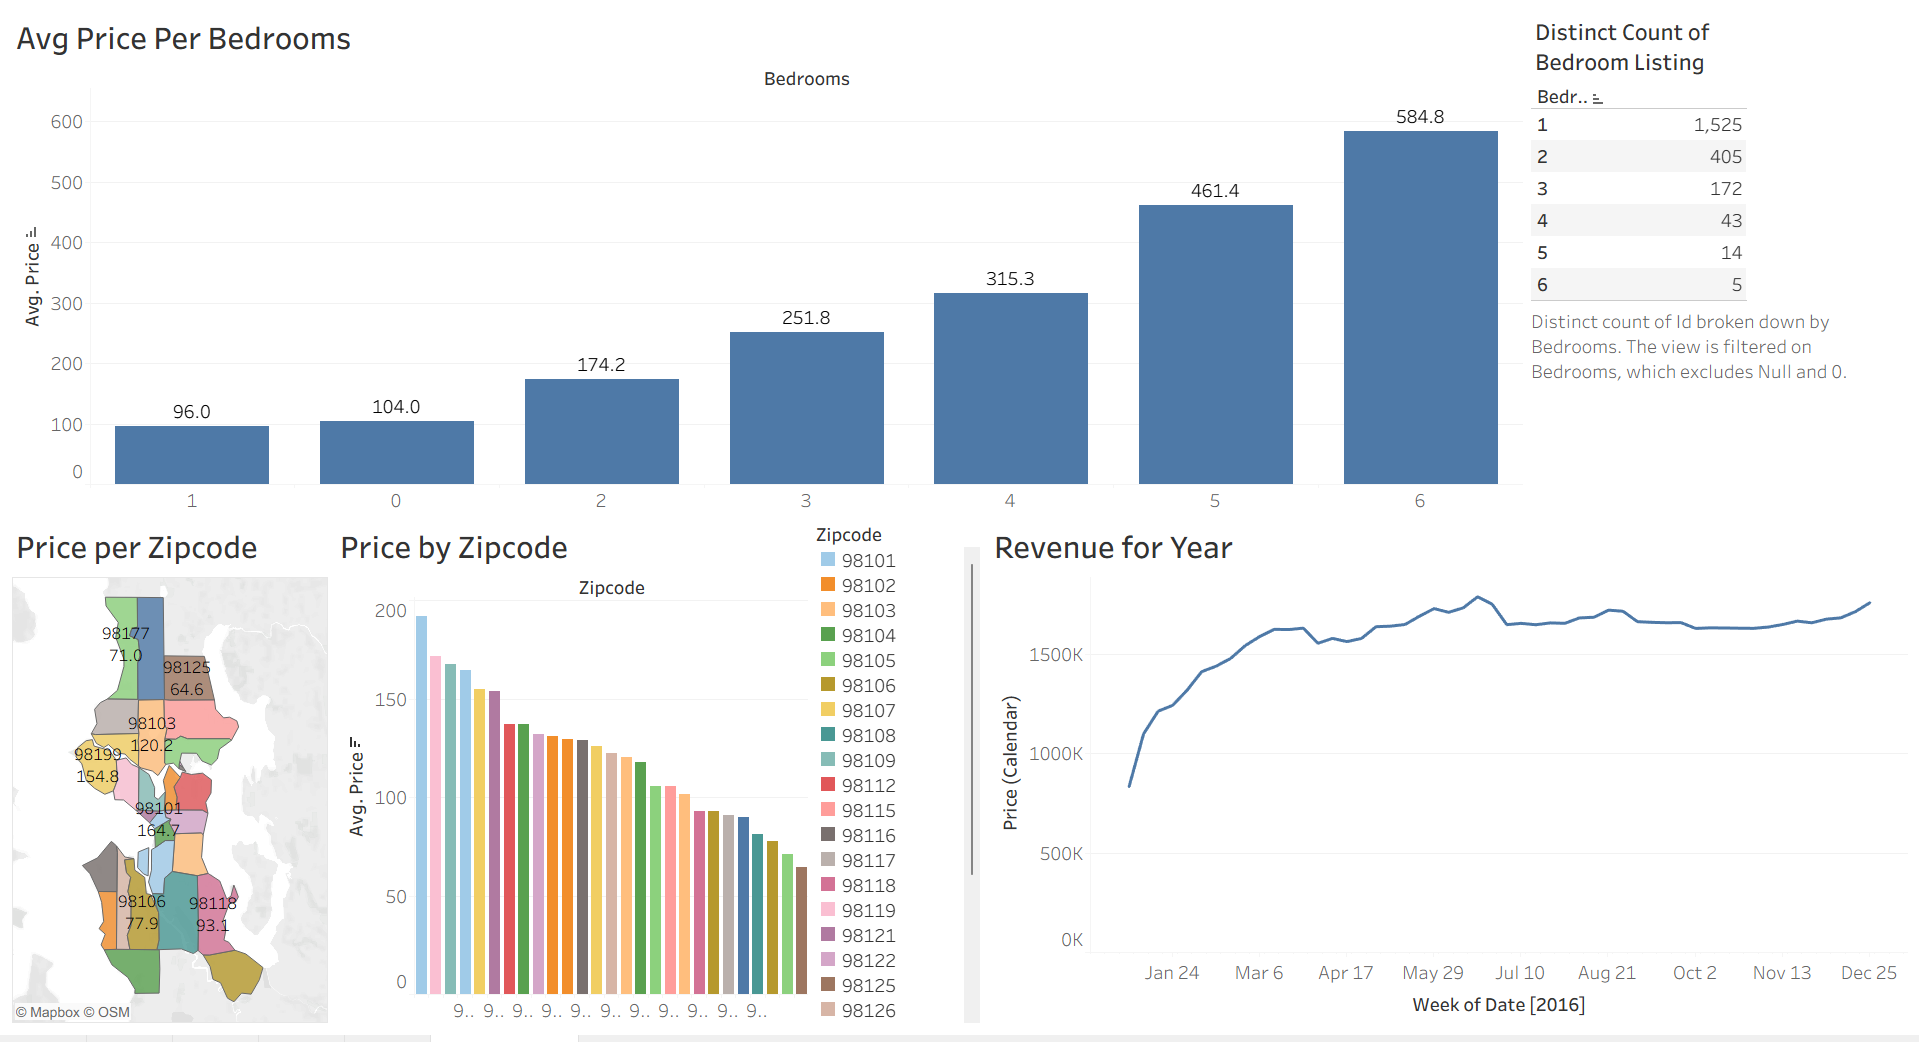

Layout of this report page (visuals, bound fields, positions):
{"tool":"tableau","page":{"name":"Dashboard 1","canvas":[1000,1000],"units":"permille","ordinal":0},"visuals":[{"type":"worksheet","title":"Sheet 4","mark":"Automatic","rows":["price"],"cols":["bedrooms"],"box":[5,9.9,789.9,490]},{"type":"worksheet","title":"Sheet 5","mark":"Automatic","rows":["bedrooms"],"box":[794.9,9.9,200.2,490]},{"type":"worksheet","title":"Sheet 2","mark":"Multipolygon","box":[5,499.9,168.3,490.1]},{"type":"worksheet","title":"Sheet 1","mark":"Automatic","rows":["price"],"cols":["zipcode"],"box":[173.3,499.9,250,490.1]},{"type":"legend","title":"Sheet 1","param":"[federated.18chxy70c8et8k17oh2ea1e5al2x].[none:zipcode:ok]","box":[423.3,499.9,90.4,490.1]},{"type":"worksheet","title":"Sheet 3","mark":"Automatic","rows":["price (calendar)"],"cols":["date"],"box":[513.7,499.9,481.3,490.1]}]}

Visuals, with their boxes on the dashboard's canvas, which has no fixed pixel size, in thousandths of its width and height (x1, y1, x2, y2). These are canvas units, not pixel positions in the 1919x1042 screenshot, which may show the page scaled, cropped or inside an application window:
"Sheet 4" worksheet: box(5, 10, 795, 500)
"Sheet 5" worksheet: box(795, 10, 995, 500)
"Sheet 2" worksheet (Multipolygon marks): box(5, 500, 173, 990)
"Sheet 1" worksheet: box(173, 500, 423, 990)
"Sheet 1" legend: box(423, 500, 514, 990)
"Sheet 3" worksheet: box(514, 500, 995, 990)
